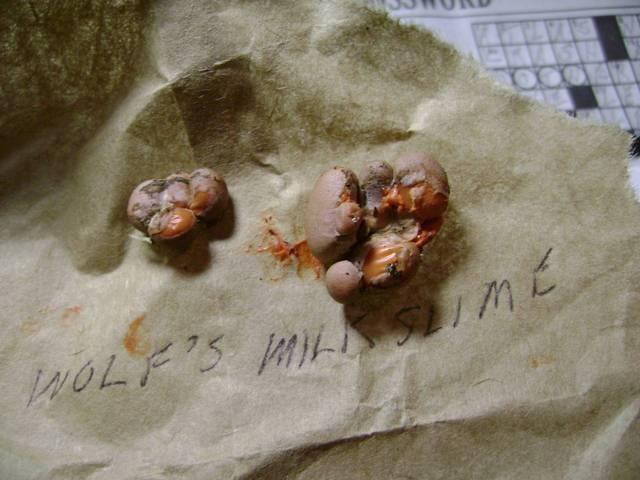Non-edible Mushroom: (302, 150, 450, 303), (125, 166, 229, 246), (302, 164, 365, 264), (324, 258, 364, 303)
